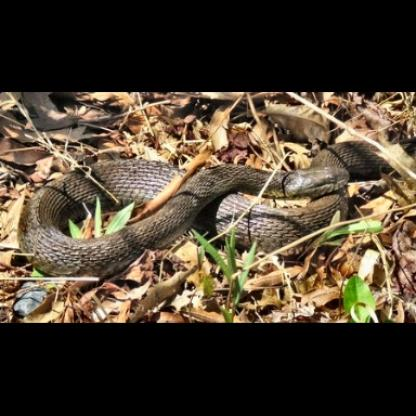Snake: (17, 135, 416, 280)
